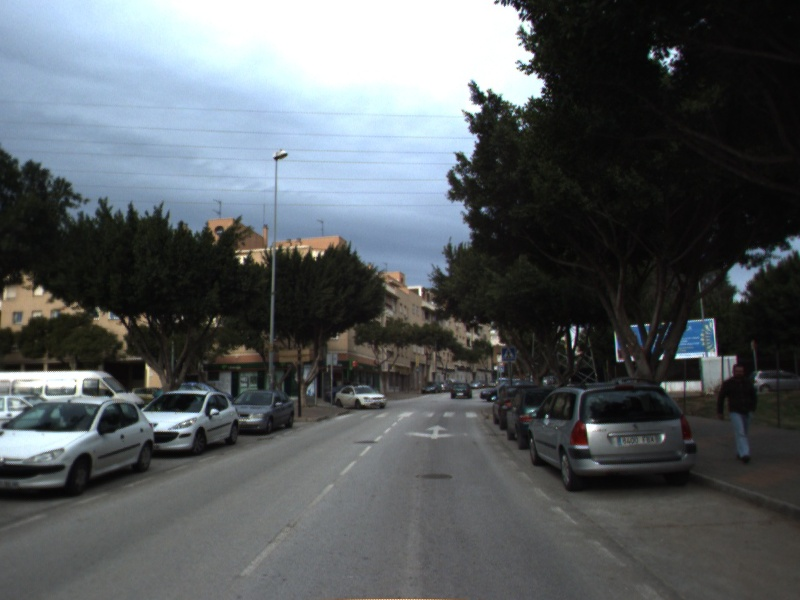STRAIGHT_LEFT_RIGHT: (402, 423, 470, 441)
